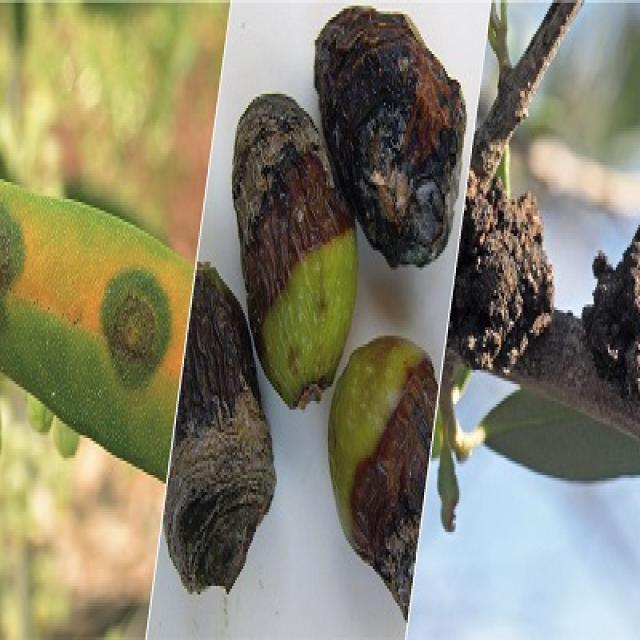Anthracnose: (232, 94, 357, 410), (316, 6, 466, 262), (163, 262, 275, 592), (328, 336, 437, 618)
OlivePeacockSpot: (0, 179, 198, 481)
Tuberculosis: (446, 162, 558, 372), (582, 224, 638, 398)
